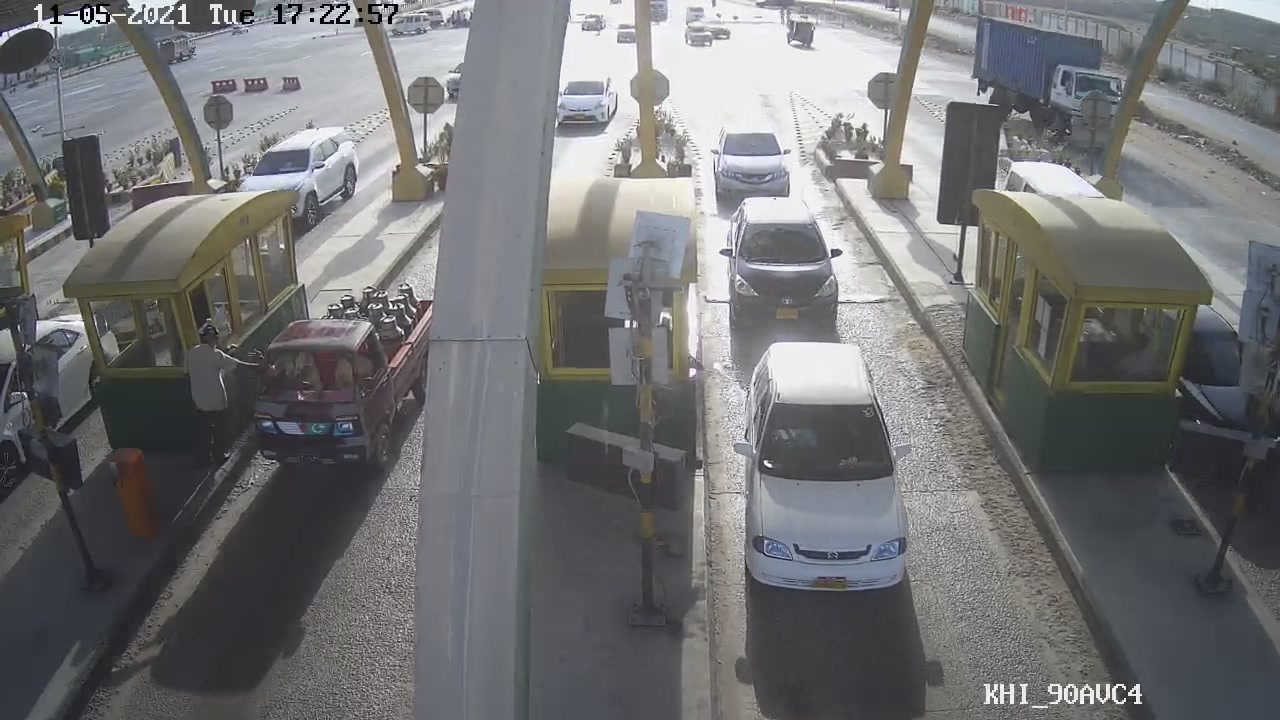F1: (721, 335, 924, 600), (715, 189, 848, 328)
